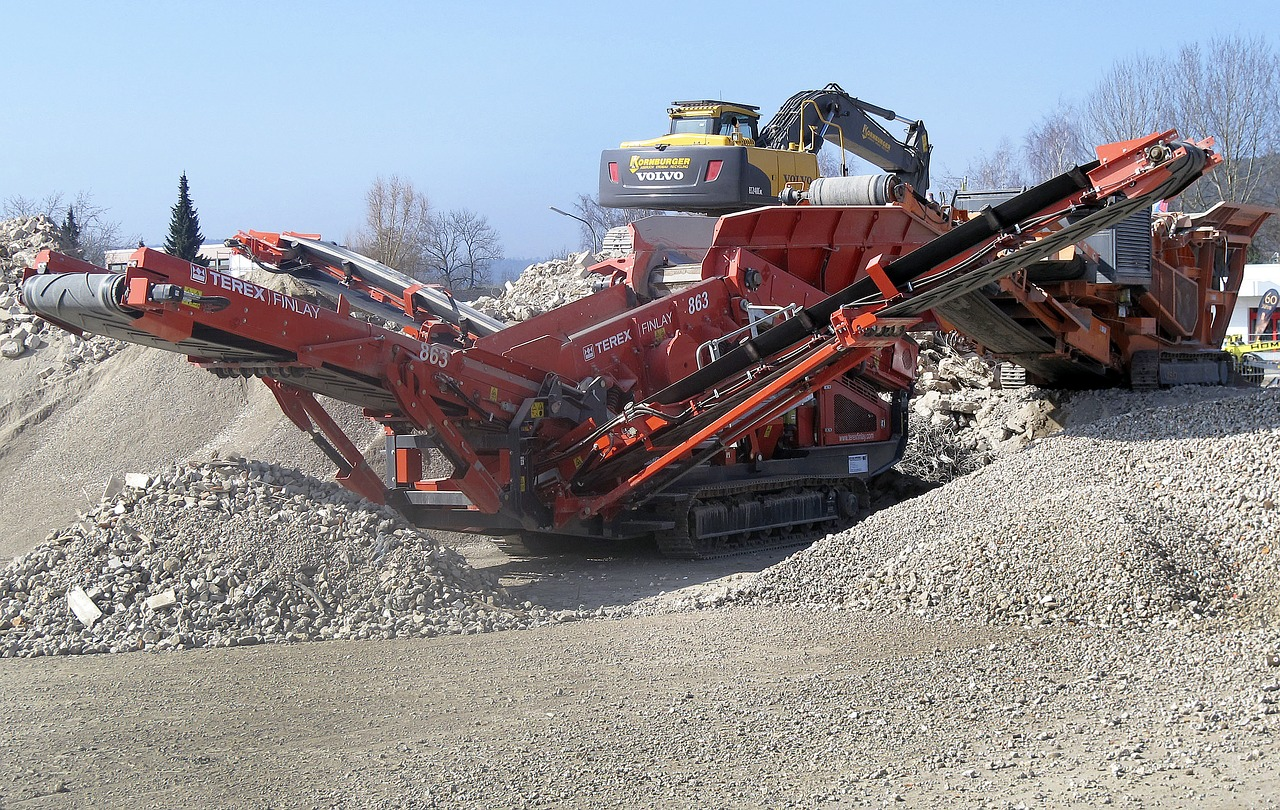excavator: (588, 66, 945, 238)
